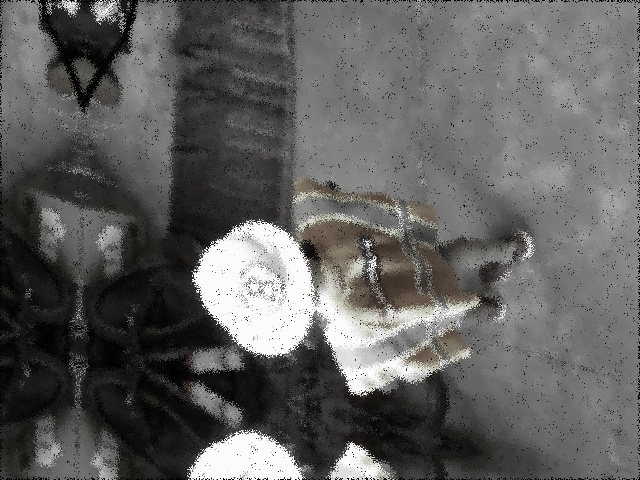eight: (236, 256, 283, 322)
